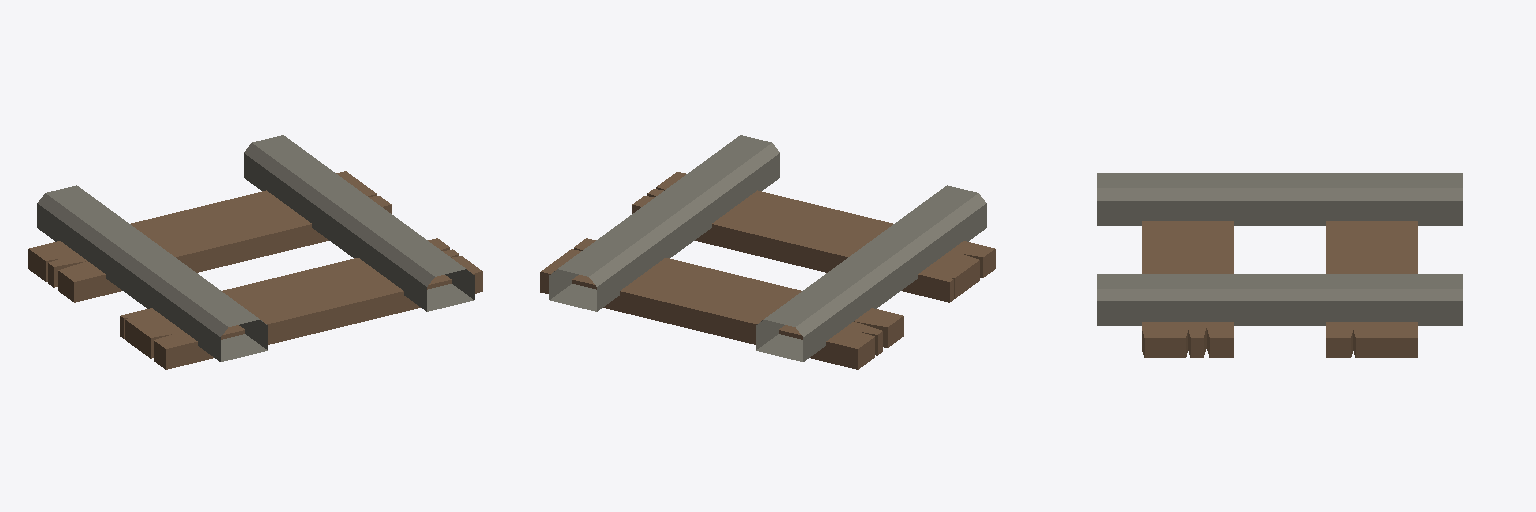
The model's file is Cave_Prop_Railway_Straight_4.obj.
The picture shows the model from 3 angles: view 1: azimuth 30°, elevation 25°; view 2: azimuth 150°, elevation 25°; view 3: azimuth 270°, elevation 25°; orthographic projection.
Visible parts, largest first — view 1: object4, object1, object3, object2; view 2: object4, object1, object2, object3; view 3: object1, object4, object2, object3.
Boxes of the visible parts, box(x1,y1,x2,y2) form: object4: box(244, 135, 474, 311); object1: box(37, 185, 267, 361); object3: box(120, 238, 482, 369); object2: box(28, 171, 391, 302); object4: box(549, 135, 779, 311); object1: box(756, 185, 986, 361); object2: box(540, 238, 903, 369); object3: box(632, 172, 995, 302); object1: box(1097, 173, 1462, 225); object4: box(1097, 274, 1462, 325); object2: box(1326, 221, 1417, 357); object3: box(1142, 221, 1233, 357).
Size of the model in its own units: 1 by 0.15 by 1.